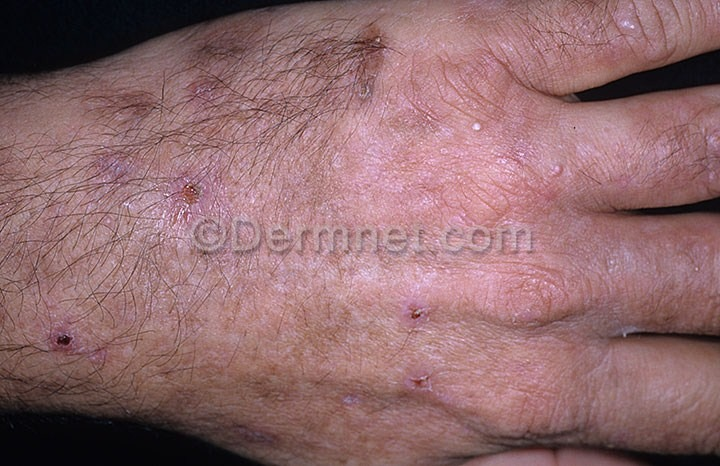Melasma: (182, 13, 402, 128), (383, 296, 508, 420), (66, 68, 169, 194), (23, 300, 97, 387), (153, 155, 220, 209)
